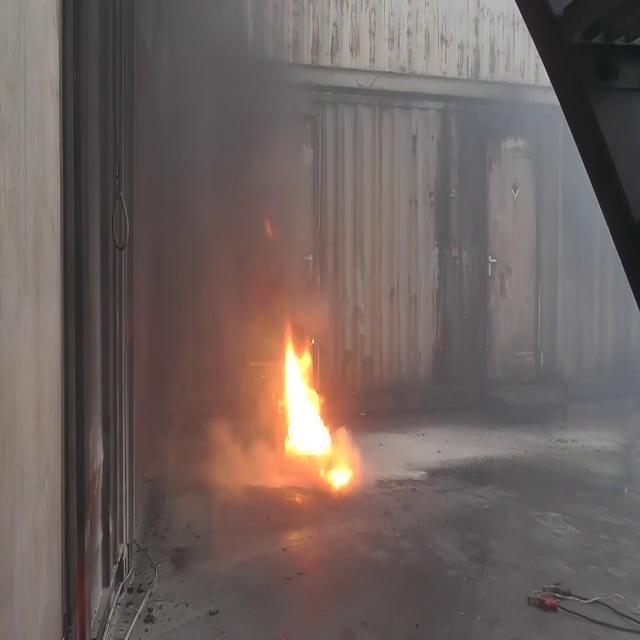Fire: (276, 323, 352, 481)
Smoke: (135, 1, 314, 527)
